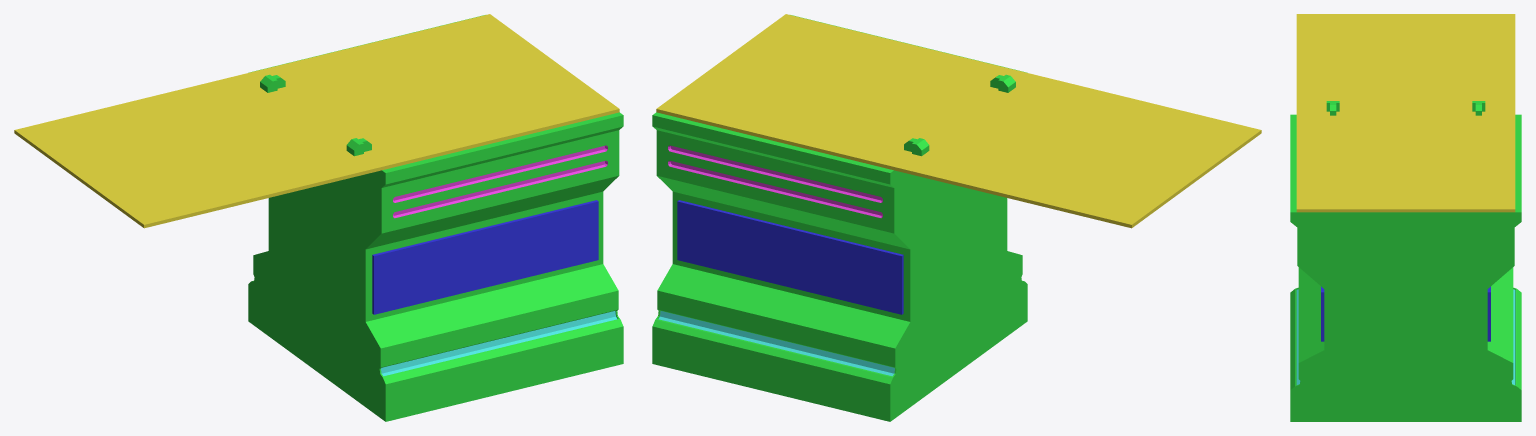
Rendered from Bar_Table_01_Door.fbx.
3 views of the same model, side by side, from view 1: azimuth 30°, elevation 25°; view 2: azimuth 150°, elevation 25°; view 3: azimuth 270°, elevation 25° (orthographic). The views are drawn at different scales.
Parts seen in each view (by area): view 1: Bar_Table_01_Door, Bar_Table_01_Door_Door; view 2: Bar_Table_01_Door, Bar_Table_01_Door_Door; view 3: Bar_Table_01_Door, Bar_Table_01_Door_Door.
Part boxes in pixels (left/top/right/bottom): Bar_Table_01_Door: left=248, top=14, right=623, bottom=421; Bar_Table_01_Door_Door: left=14, top=72, right=381, bottom=228; Bar_Table_01_Door: left=652, top=14, right=1027, bottom=421; Bar_Table_01_Door_Door: left=894, top=72, right=1261, bottom=228; Bar_Table_01_Door: left=1290, top=111, right=1521, bottom=421; Bar_Table_01_Door_Door: left=1296, top=14, right=1515, bottom=115.
Size of the model in its own units: 183 by 96.52 by 91.44.
